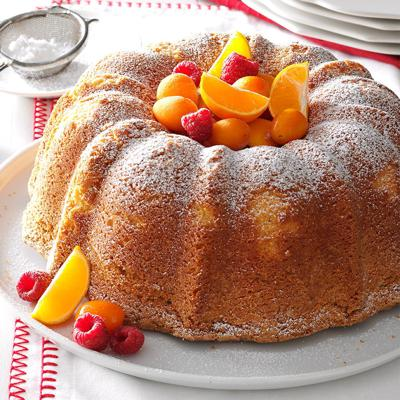cake: (19, 30, 400, 343)
